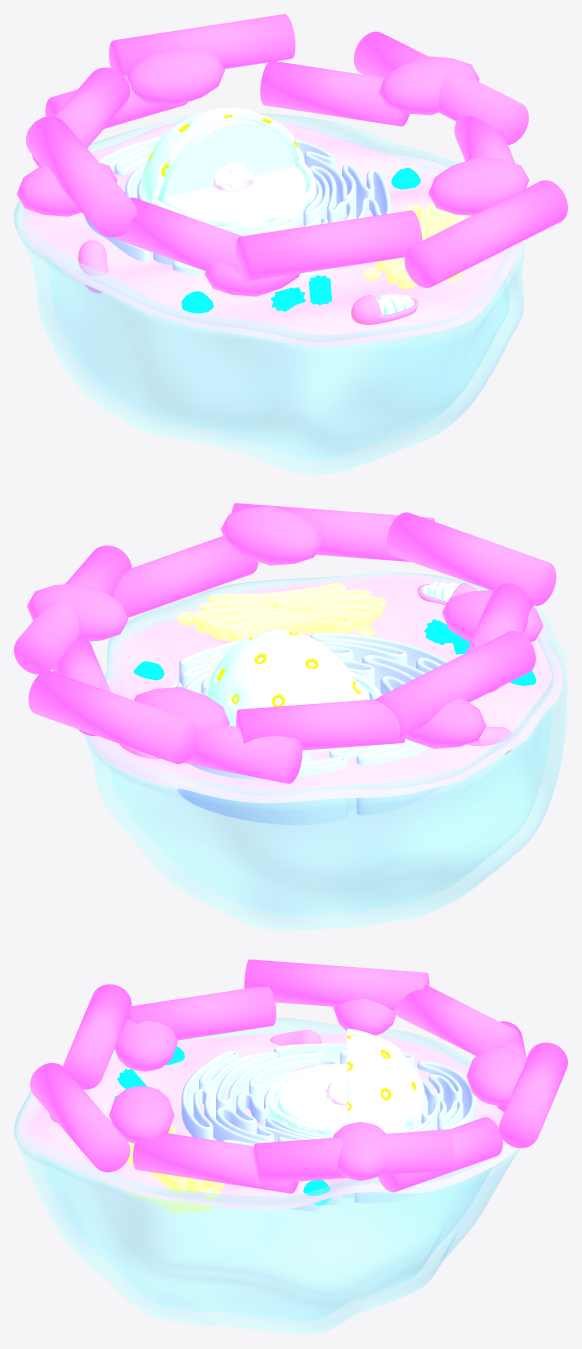
The model's file is heart-cellular-progressing-1.glb.
3 views of the same model, one above another, from view 1: azimuth 30°, elevation 25°; view 2: azimuth 150°, elevation 25°; view 3: azimuth 270°, elevation 25° (orthographic). The views are drawn at different scales.
Visible parts, largest first — view 1: Sphere_0, Sphere.001_0, Roundcube_0, AmyloidFibril_7, BezierCurve_0, AmyloidFibril_6, AmyloidFibril_4, AmyloidFibril_2, AmyloidFibril_8, AmyloidFibril_0, Icosphere_0, AmyloidFibril_3 (+13 smaller); view 2: Sphere_0, Sphere.001_0, BezierCurve_0, Icosphere_0, BezierCurve.002_0, AmyloidFibril_4, AmyloidFibril_7, AmyloidFibril_2, AmyloidFibril_9, AmyloidFibril_1, AmyloidFibril_0, AmyloidFibril_5 (+10 smaller); view 3: Sphere_0, Sphere.001_0, BezierCurve_0, Icosphere_0, AmyloidFibril_0, AmyloidFibril_2, AmyloidFibril_1, AmyloidFibril_3, AmyloidFibril_6, AmyloidFibril_9, AmyloidFibril_4, AmyloidFibril_7 (+11 smaller).
Part boxes in pixels (x1,y1,x2,y2): Sphere_0: (14, 113, 526, 474); Sphere.001_0: (22, 119, 521, 346); Roundcube_0: (158, 118, 306, 217); AmyloidFibril_7: (235, 210, 422, 281); BezierCurve_0: (84, 136, 391, 278); AmyloidFibril_6: (404, 180, 567, 287); AmyloidFibril_4: (109, 14, 295, 75); AmyloidFibril_2: (26, 116, 136, 237); AmyloidFibril_8: (260, 60, 409, 126); AmyloidFibril_0: (353, 31, 528, 144); Icosphere_0: (141, 107, 316, 227); AmyloidFibril_3: (116, 197, 242, 273); Sphere_0: (85, 573, 567, 930); Sphere.001_0: (88, 574, 562, 803); BezierCurve_0: (168, 632, 448, 825); Icosphere_0: (207, 629, 381, 726); BezierCurve.002_0: (177, 583, 386, 641); AmyloidFibril_4: (28, 670, 197, 764); AmyloidFibril_7: (387, 512, 556, 605); AmyloidFibril_2: (375, 631, 535, 738); AmyloidFibril_9: (236, 699, 405, 750); AmyloidFibril_1: (113, 536, 258, 617); AmyloidFibril_0: (14, 545, 131, 674); AmyloidFibril_5: (153, 724, 302, 783); Sphere_0: (14, 1018, 519, 1334); Sphere.001_0: (17, 1031, 517, 1209); BezierCurve_0: (181, 1043, 475, 1211); Icosphere_0: (269, 1028, 425, 1134); AmyloidFibril_0: (253, 1129, 454, 1184); AmyloidFibril_2: (244, 959, 429, 1010); AmyloidFibril_1: (133, 1133, 298, 1193); AmyloidFibril_3: (127, 986, 276, 1040); AmyloidFibril_6: (30, 1063, 130, 1172); AmyloidFibril_9: (394, 985, 519, 1055); AmyloidFibril_4: (499, 1042, 567, 1148); AmyloidFibril_7: (63, 984, 131, 1089).
Bounding box in the file's own units: 2.76 × 1.72 × 3.24.
